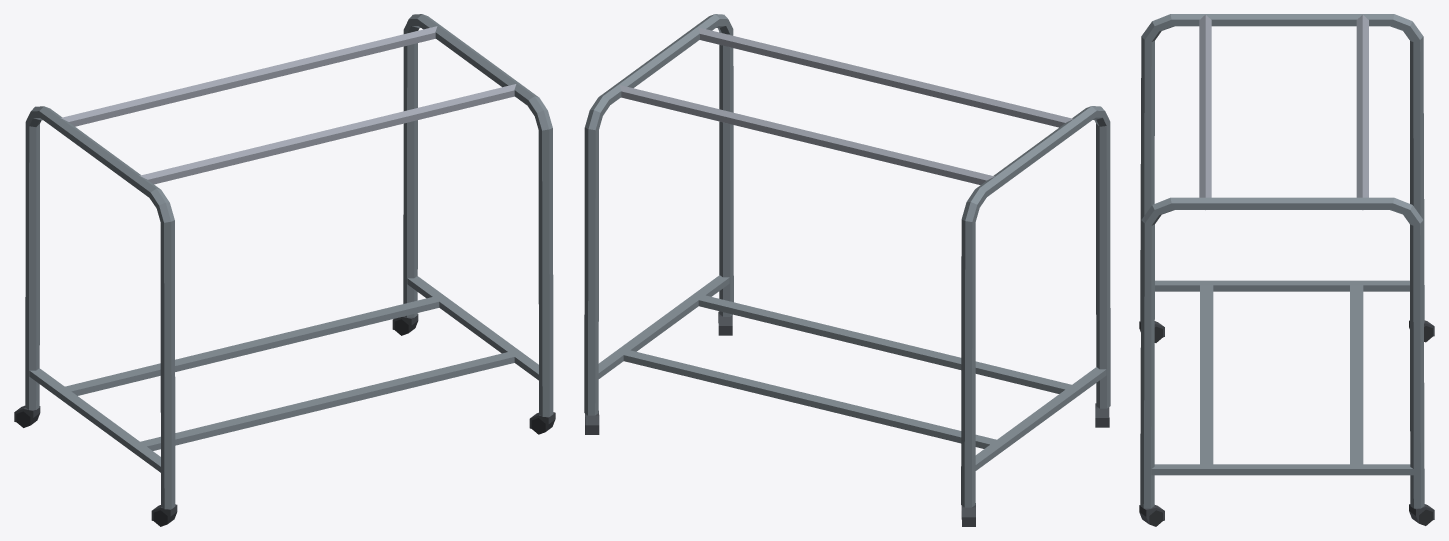
Rendered from SM_Prop_Clothes_Rack_08.fbx.
3 renders of one model, left to right at view 1: azimuth 30°, elevation 25°; view 2: azimuth 150°, elevation 25°; view 3: azimuth 270°, elevation 25°, orthographic.
Parts seen in each view (by area): view 1: SM_Prop_Clothes_Rack_08; view 2: SM_Prop_Clothes_Rack_08; view 3: SM_Prop_Clothes_Rack_08.
Boxes of the visible parts, x1=… form: SM_Prop_Clothes_Rack_08: x1=14, y1=14, x2=555, y2=526; SM_Prop_Clothes_Rack_08: x1=584, y1=14, x2=1110, y2=526; SM_Prop_Clothes_Rack_08: x1=1139, y1=14, x2=1434, y2=526.
Bounding box in the file's own units: 191 × 150 × 123.
